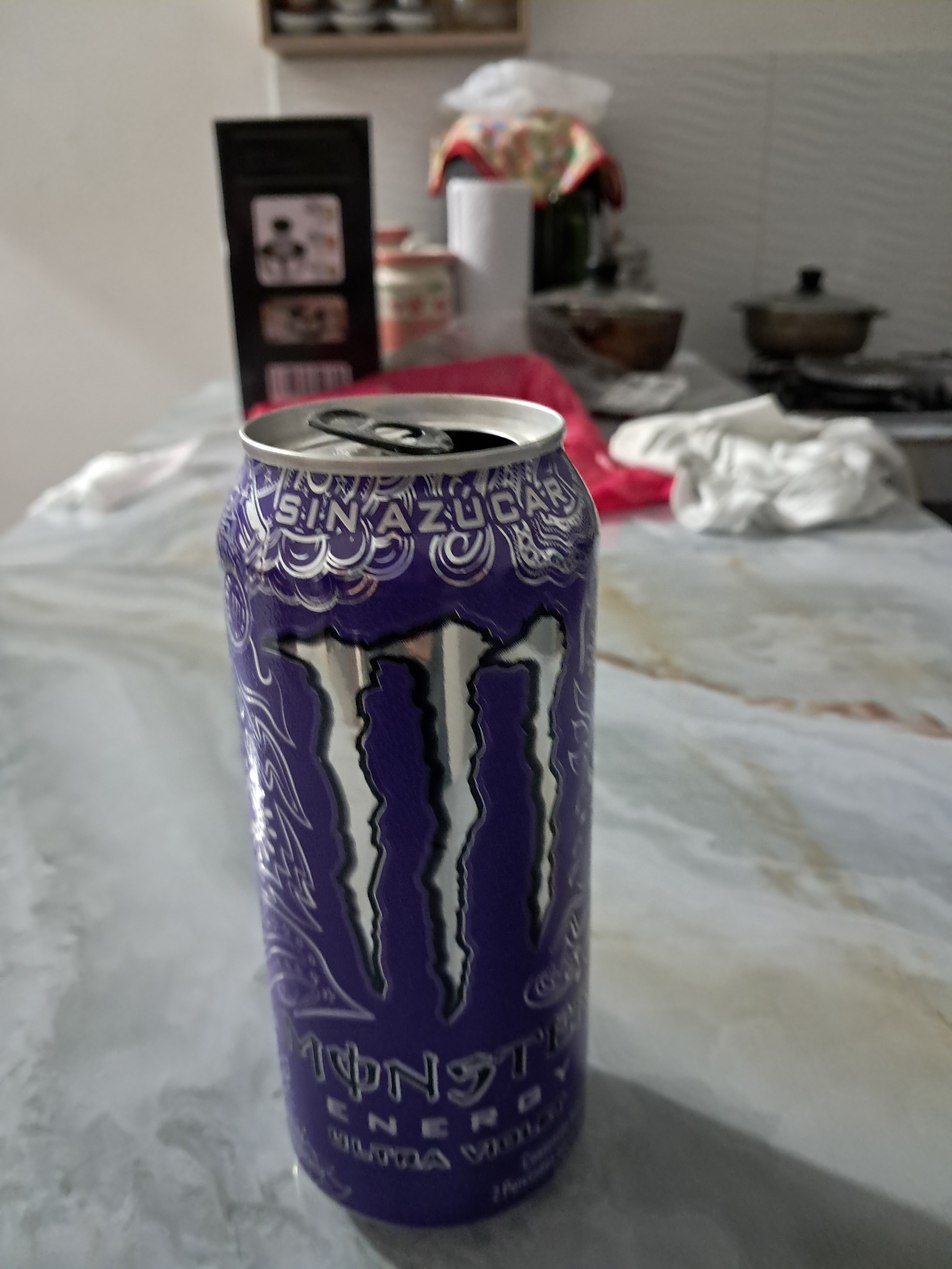energy_drink: (218, 394, 598, 1226)
